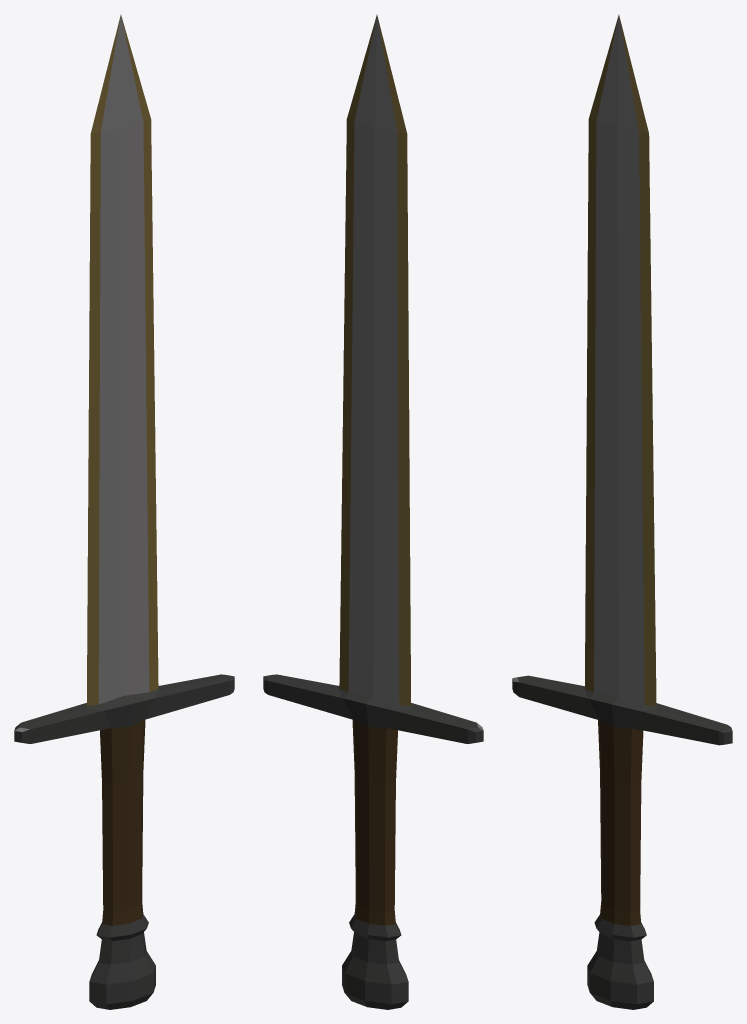
File: short-sword.glb
3 views of the same model, side by side, from view 1: azimuth 30°, elevation 25°; view 2: azimuth 150°, elevation 25°; view 3: azimuth 330°, elevation 25° (orthographic).
Parts seen in each view (by area): view 1: Sword 7; view 2: Sword 7; view 3: Sword 7.
Part boxes in pixels (bbox=[...]): Sword 7: bbox=[14, 14, 234, 1009]; Sword 7: bbox=[263, 14, 483, 1009]; Sword 7: bbox=[512, 14, 732, 1009].
Bounding box in the file's own units: 0.2091 × 0.8948 × 0.0337.
